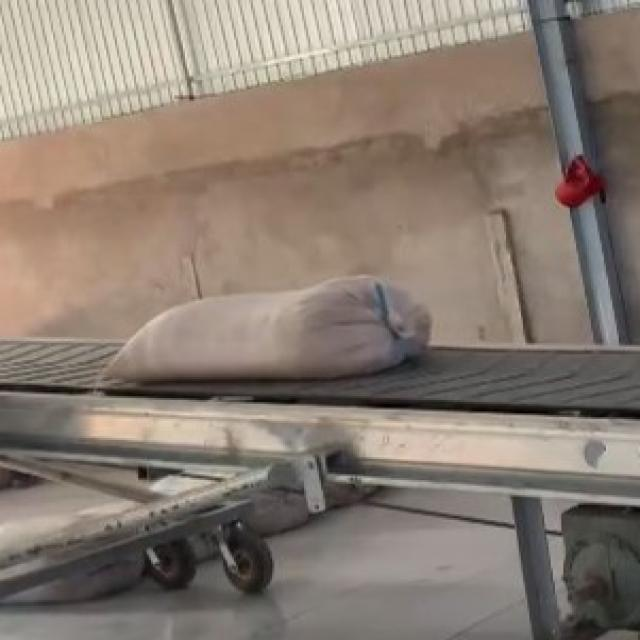gunny_bag: (104, 276, 432, 384)
